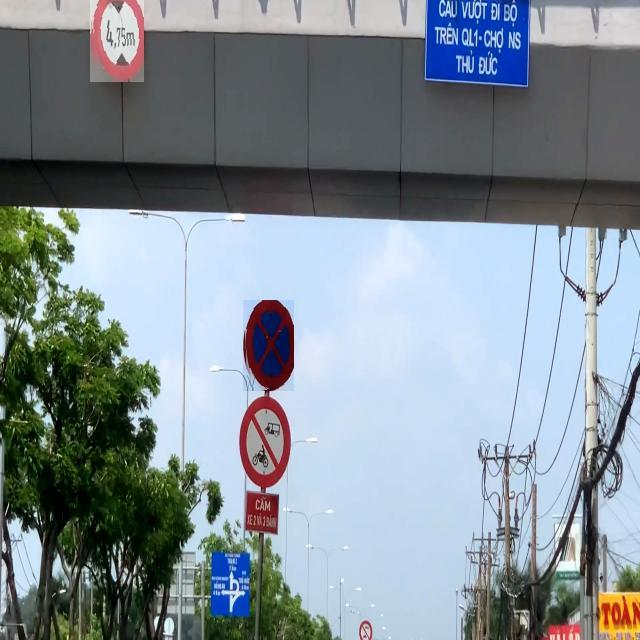P-117: (90, 0, 144, 82)
P-130: (243, 300, 294, 391)
